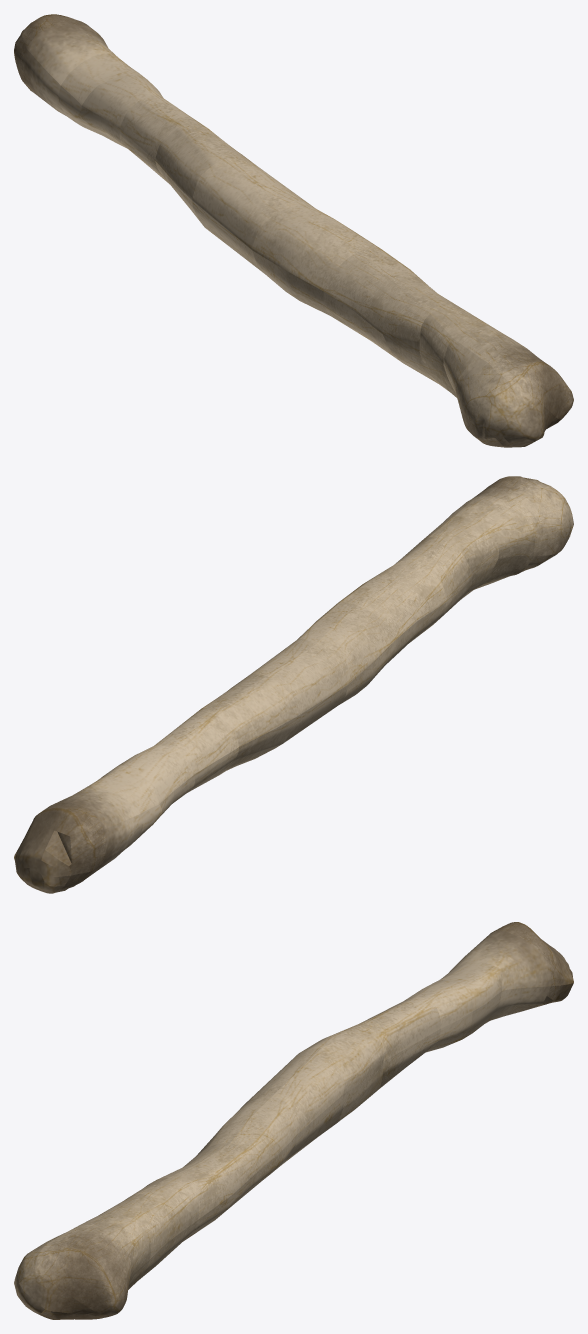
Rendered from bone2.glb.
3 views of the same model, one above another, from view 1: azimuth 30°, elevation 25°; view 2: azimuth 150°, elevation 25°; view 3: azimuth 330°, elevation 25° (orthographic). The views are drawn at different scales.
Visible parts, largest first — view 1: polySurface2_lambert9_0; view 2: polySurface2_lambert9_0; view 3: polySurface2_lambert9_0.
Boxes of the visible parts, box(x1,y1,x2,y2) form: polySurface2_lambert9_0: box(14, 14, 573, 447); polySurface2_lambert9_0: box(14, 476, 573, 893); polySurface2_lambert9_0: box(14, 922, 573, 1319).
Bounding box in the file's own units: 0.036 × 0.0292 × 0.3073.
Materials: 1 (1 with a texture image).
